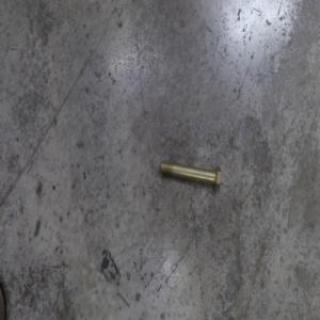Bolttrack_idkeyframe: (156, 159, 221, 192)
